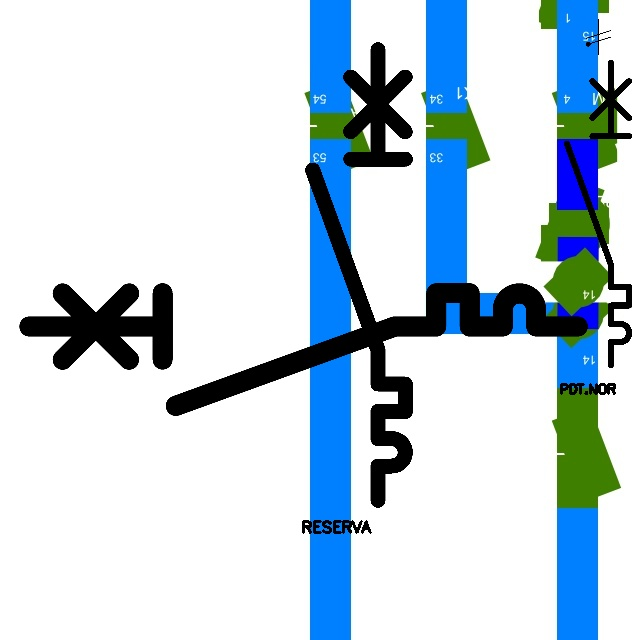interruptor_termomagnetico: (15, 279, 592, 420), (301, 38, 417, 512), (559, 55, 637, 373)
